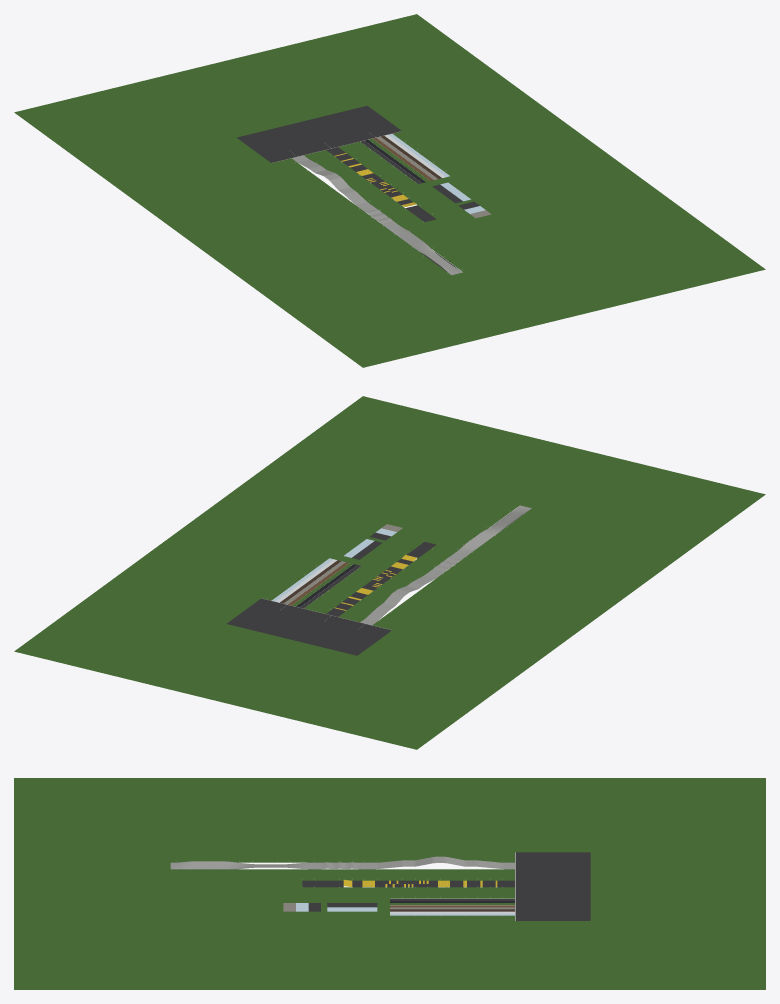
Rendered from car_test_track.gltf.
3 renders of one model, top to bottom at view 1: azimuth 30°, elevation 25°; view 2: azimuth 150°, elevation 25°; view 3: azimuth 270°, elevation 25°, orthographic. The views are drawn at different scales.
Visible parts, largest first — view 1: grass, asphalt, concrete; view 2: grass, asphalt, concrete; view 3: grass, asphalt, concrete, ice, gravel, hazard, dirt, mud, snow.
Boxes of the visible parts, x1=… form: grass: x1=14, y1=14, x2=765, y2=367; asphalt: x1=237, y1=105, x2=479, y2=221; concrete: x1=292, y1=155, x2=462, y2=275; grass: x1=14, y1=396, x2=765, y2=749; asphalt: x1=227, y1=532, x2=436, y2=655; concrete: x1=360, y1=505, x2=531, y2=625; grass: x1=14, y1=778, x2=765, y2=989; asphalt: x1=302, y1=852, x2=590, y2=920; concrete: x1=170, y1=856, x2=514, y2=869; ice: x1=296, y1=903, x2=514, y2=915; gravel: x1=283, y1=903, x2=514, y2=911; hazard: x1=343, y1=879, x2=497, y2=887; dirt: x1=390, y1=905, x2=514, y2=907; mud: x1=390, y1=909, x2=514, y2=911; snow: x1=390, y1=911, x2=514, y2=913.
Size of what is drawn, in the model's own units: 400 by 6.57 by 600.
